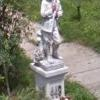Statue: (23, 2, 72, 85)
